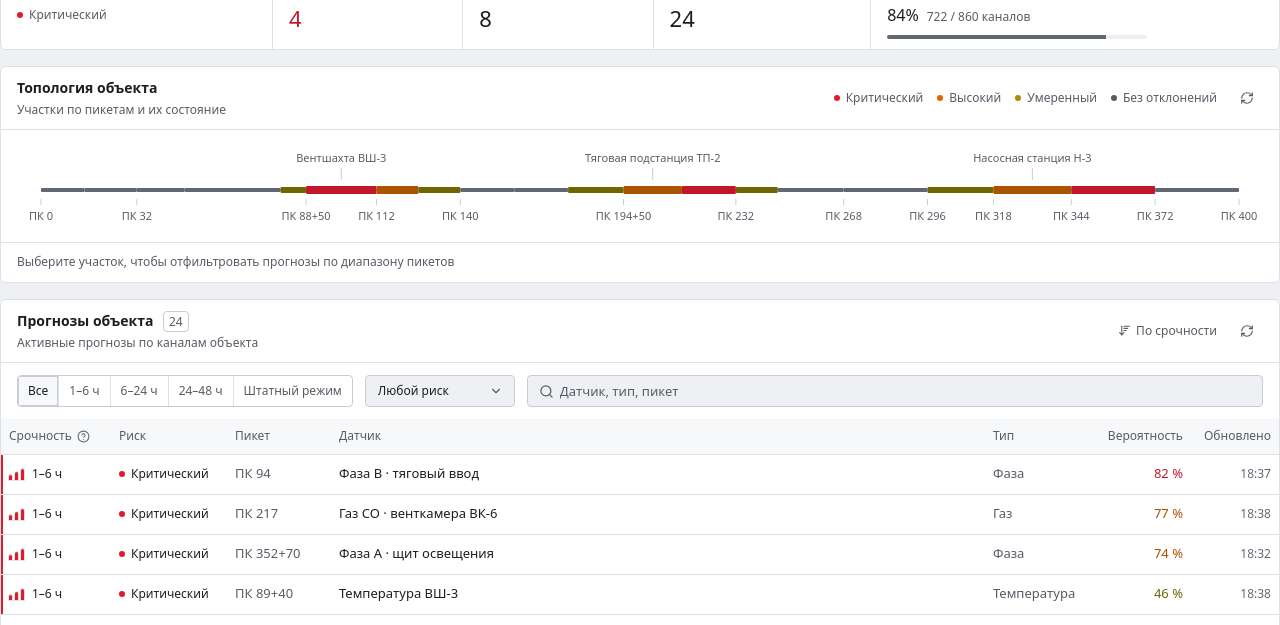
Test case: Object Workspace › keeps cached predictions after a failed refresh
Check: the button "Участок ПК 88+50" is shown, box [305,174,378,204]
Click the button named "Обновить прогнозы объекта": click(1247, 330) [1231,314,1263,346]
(page scrolled)
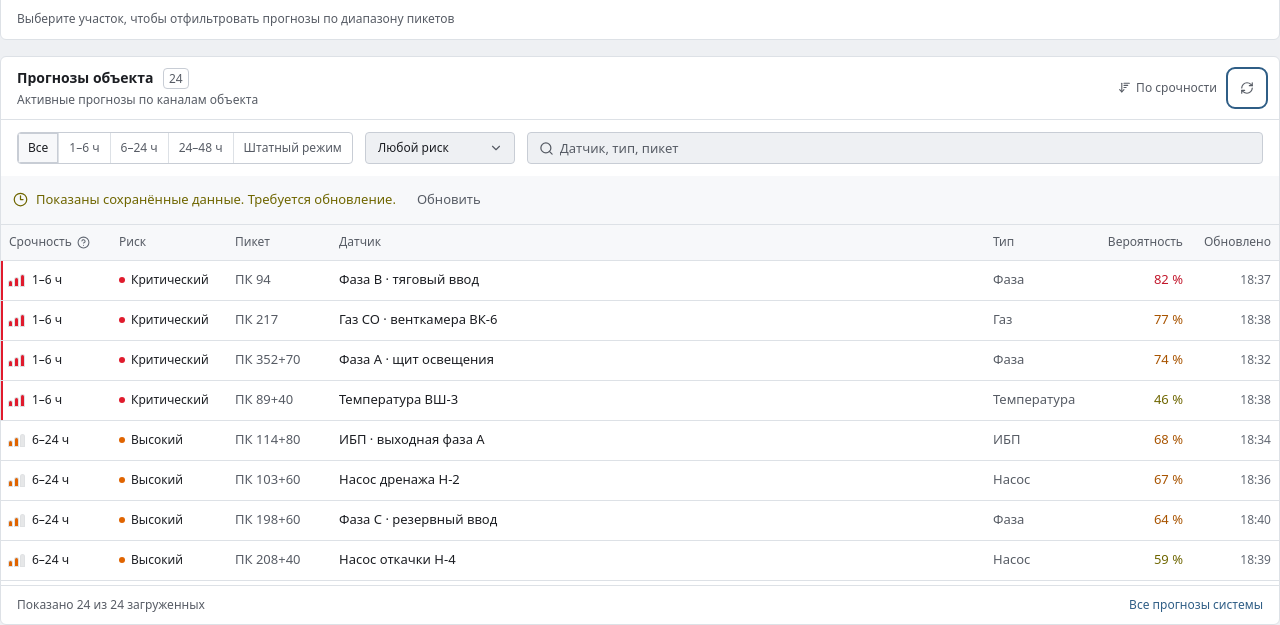
Check: the link "Температура ВШ-3" is shown, box [339,390,458,408]
Check: the text "Показаны сохранённые данные. Требуется обновление." is shown, box [36,190,396,209]
